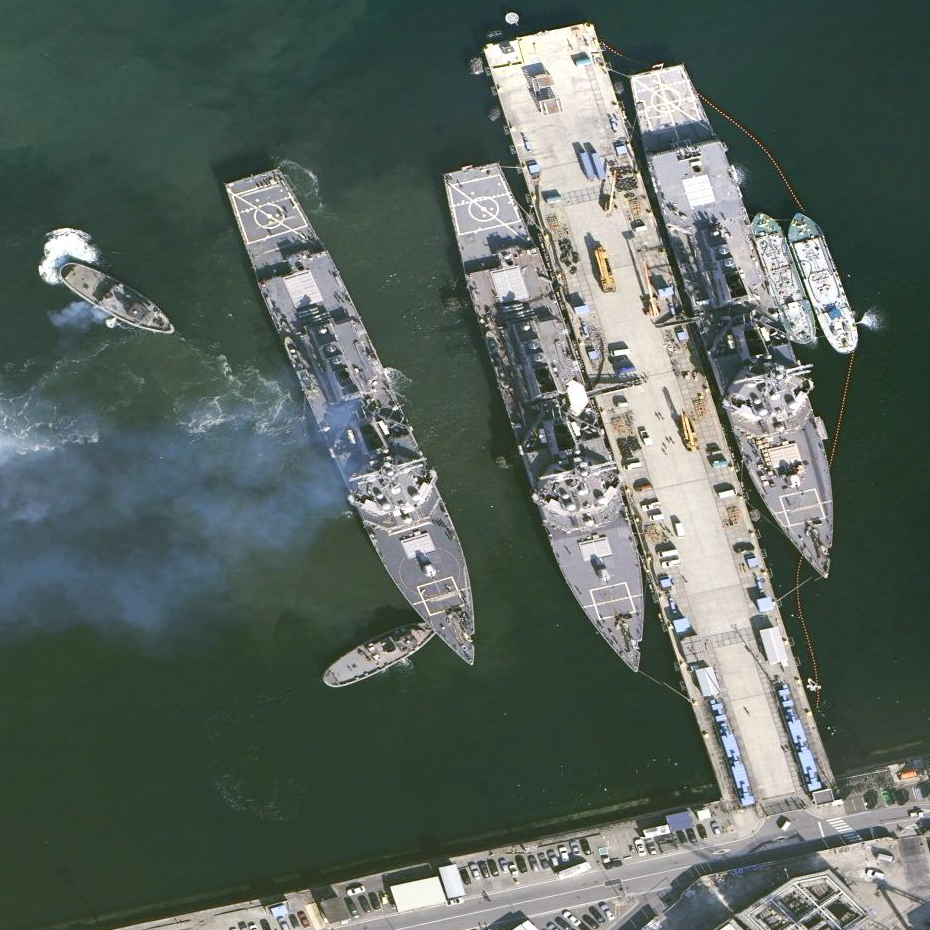Arleigh Burke DD: (209, 139, 507, 685), (431, 151, 675, 689), (622, 54, 856, 594)
Dock: (485, 16, 829, 820)
Other Ship: (781, 207, 865, 361), (749, 206, 821, 352)
Other Warship: (51, 254, 183, 346), (314, 612, 440, 696)
